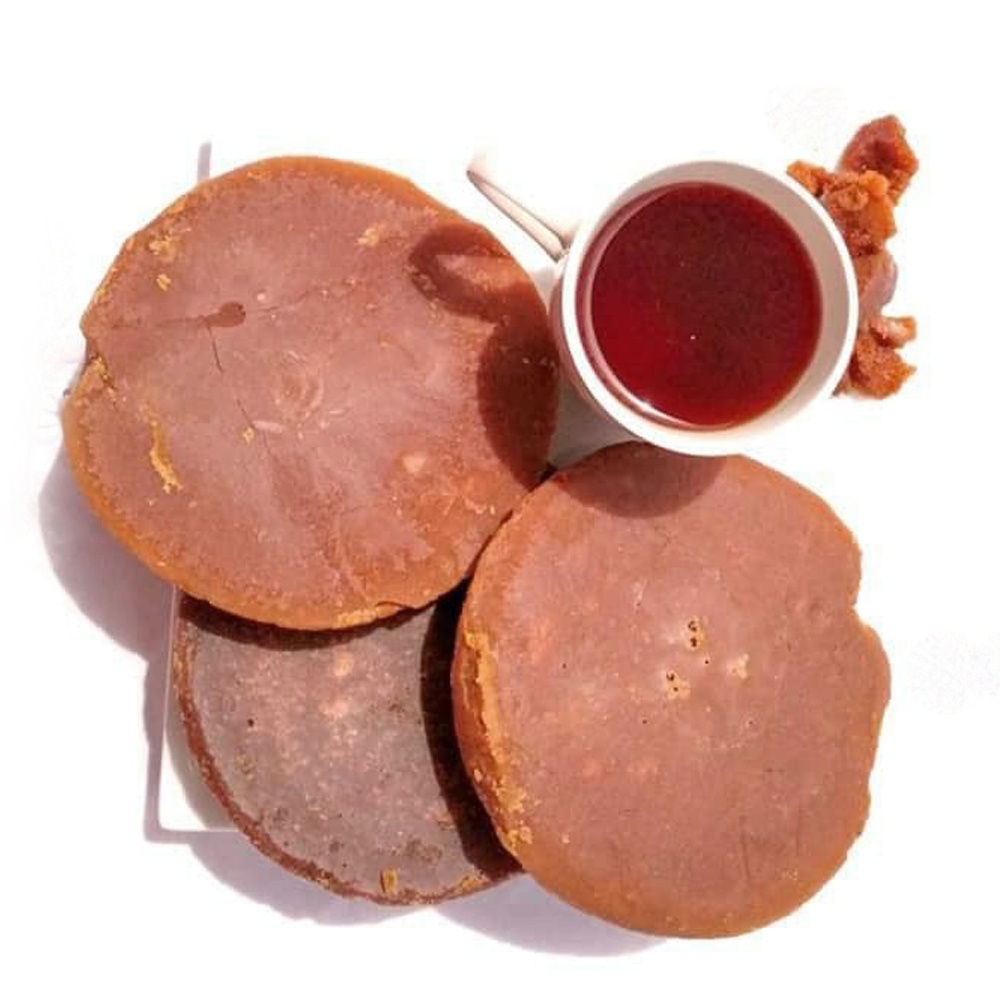hakuru: (59, 153, 565, 636), (460, 444, 893, 933)
